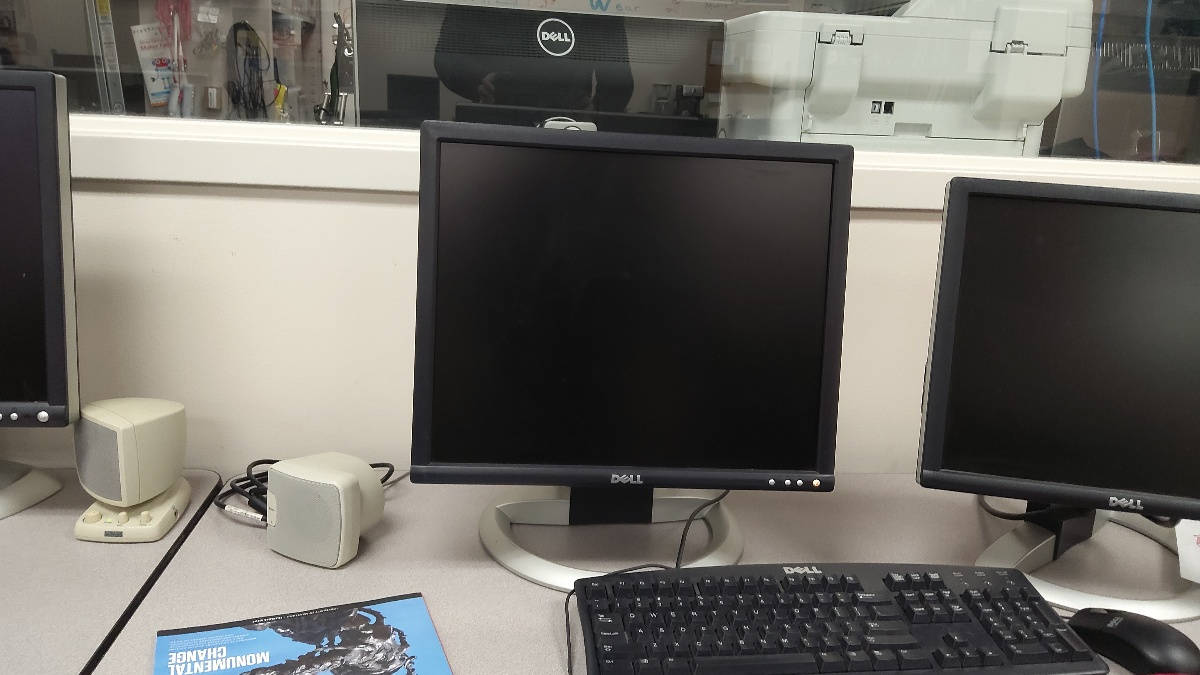monitor: (403, 116, 859, 498)
